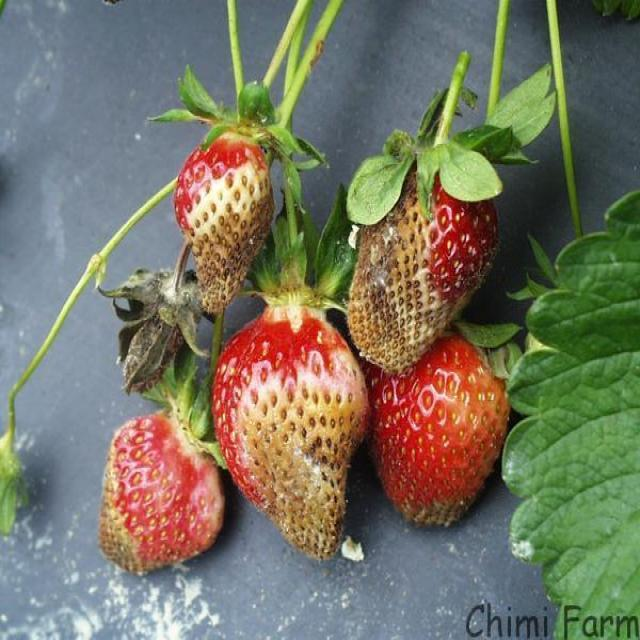Podredumbre de cuero: (206, 310, 376, 562), (346, 136, 504, 377), (362, 322, 514, 530), (86, 422, 222, 576), (172, 133, 272, 317)
